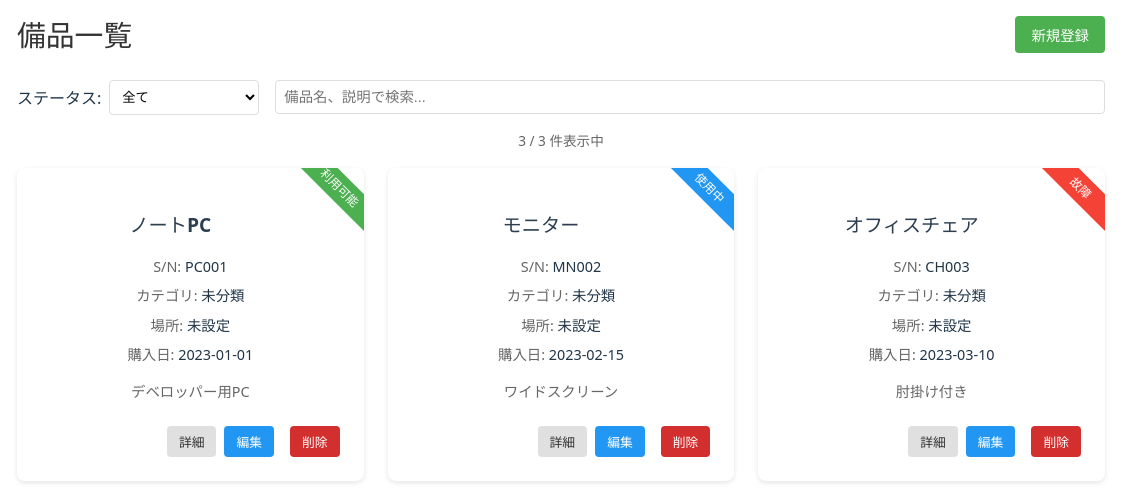
EquipmentList Component › 検索機能が正しく機能する
The image size is (1123, 501).
Check: the heading "ノートPC" is shown, box [129,211,211,238]
// 「チェア」で検索
Type "チェア" into the field with test id "search-input". click: (690, 97)
box: [275,80,1105,114]
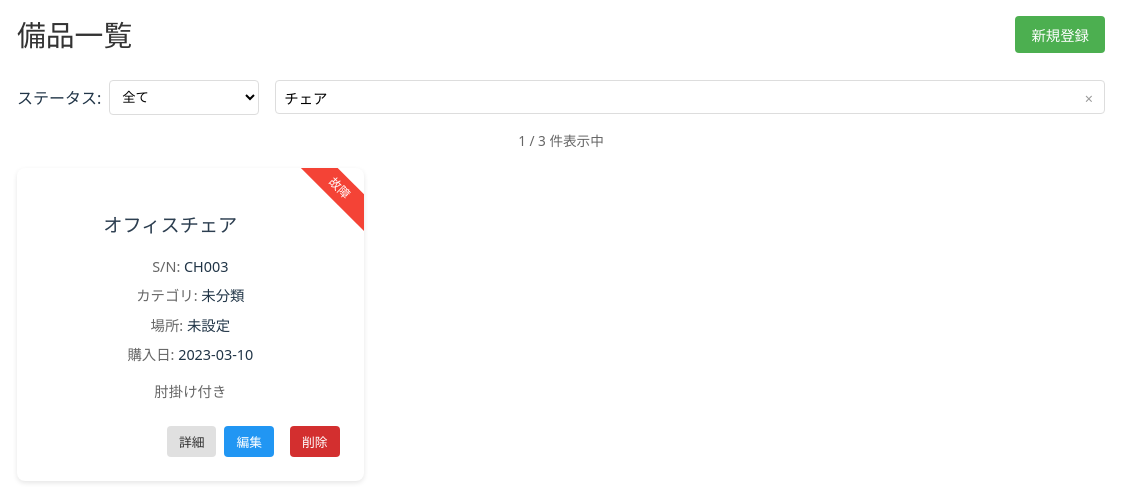
Check: the heading "オフィスチェア" is shown, box [103,211,237,238]
Check: the heading "ノートPC" is gone
Check: the heading "モニター" is gone
